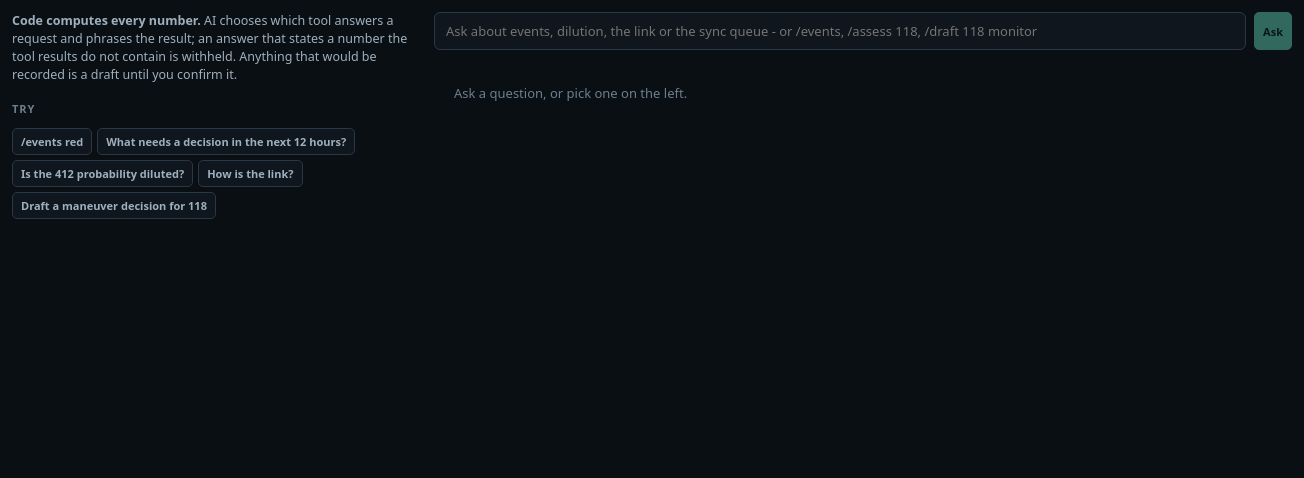
the server's reason, not a bare status › shows why the assistant refused a question, and logs it
Replace the text in the field named "question" with "How is the link?": point(840, 31) [434,12,1246,50]
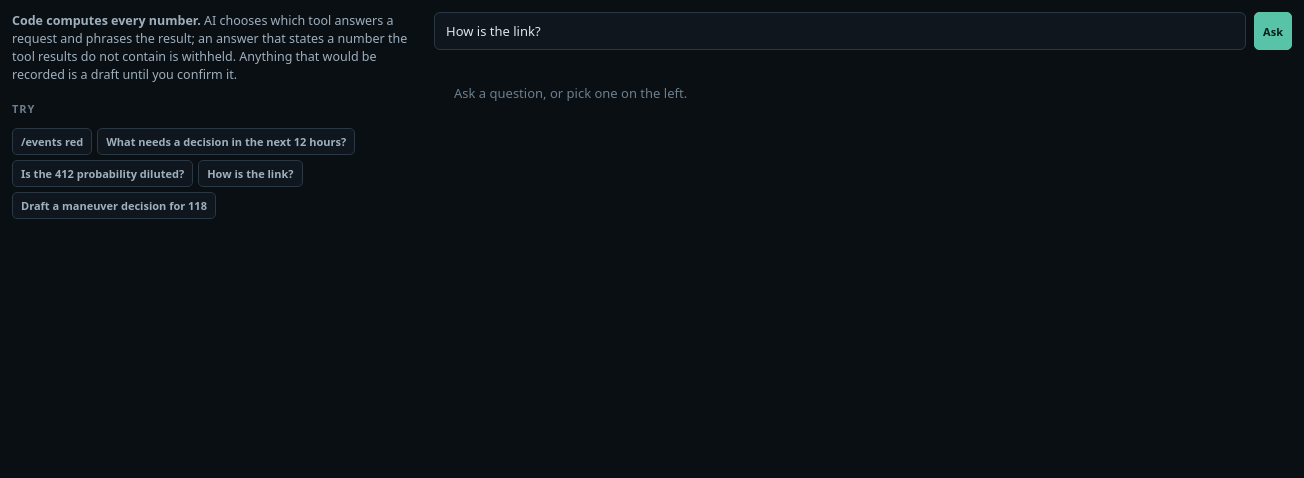
Click the button "Ask": point(1273, 31) [1254,12,1292,50]
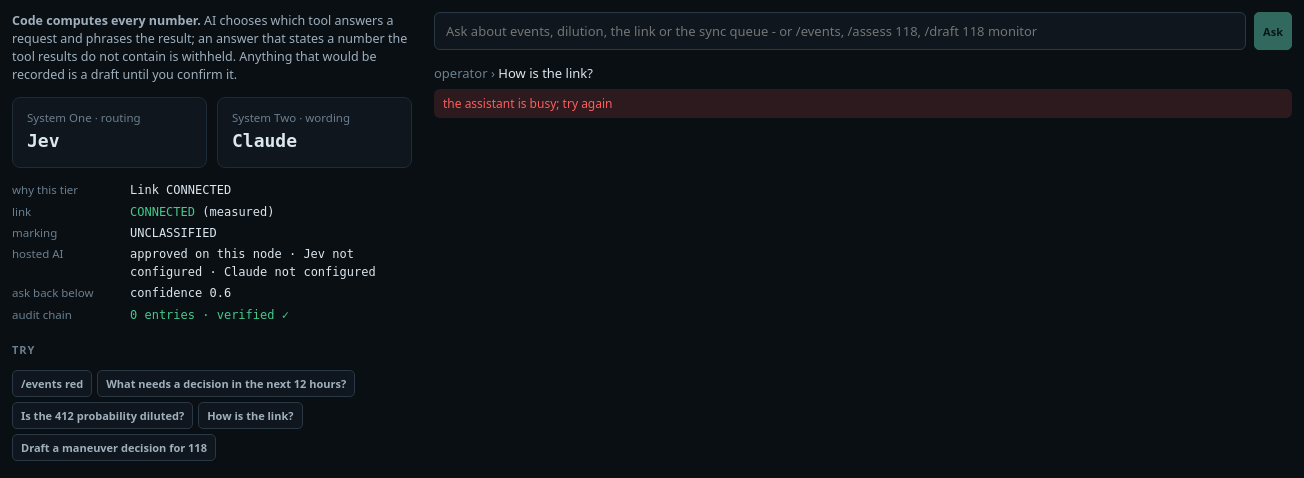
Check: the text "the assistant is busy; try again" is shown, box [434,89,1292,118]
